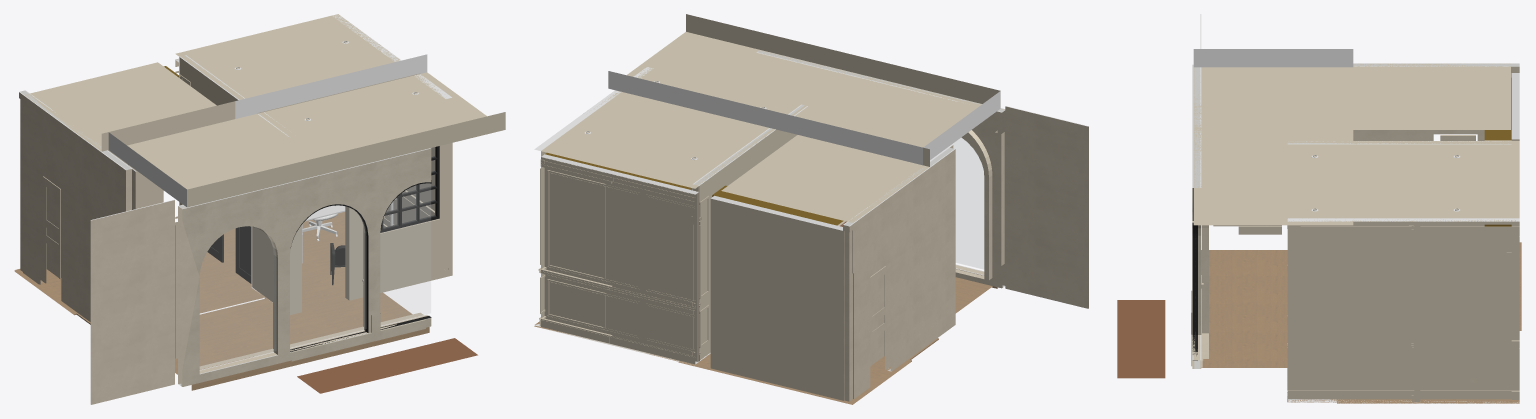
The model's file is office-east-b208e7d9e21c.glb.
The picture shows the model from 3 angles, left to right: view 1: azimuth 30°, elevation 25°; view 2: azimuth 150°, elevation 25°; view 3: azimuth 270°, elevation 25°; orthographic projection. The views are drawn at different scales.
Visible parts, largest first — view 1: office-east-look-dbd60ee5c3733ed6, office-east-look-c9e78b9ec1bb39cd, office-east-look-d5a4a1b5d3594c04, office-east-look-6a051330000fbca1, office-east-look-2575515a05775d9e, office-east-2575515a05775d9e, office-east-look-38561c12898e4d43, office-east-look-c02a36d0521470a9, office-east-look-c374268555806af8, office-east-7dc307bfa7ee071d, office-east-look-5cbcc744e6f960f3, office-east-dbd60ee5c3733ed6 (+15 smaller); view 2: office-east-look-dbd60ee5c3733ed6, office-east-look-19647d6da46c2b80, office-east-19647d6da46c2b80, office-east-look-6a051330000fbca1, office-east-look-d5a4a1b5d3594c04, office-east-2575515a05775d9e, office-east-look-2575515a05775d9e, office-east-72f8f5982ac3dc36, office-east-look-38561c12898e4d43, office-east-look-c9e78b9ec1bb39cd, office-east-dbd60ee5c3733ed6, office-east-look-1109284a531c9f8c (+16 smaller); view 3: office-east-6a1144f4e43410bb, office-east-look-dbd60ee5c3733ed6, office-east-2575515a05775d9e, office-east-look-2575515a05775d9e, office-east-look-c374268555806af8, office-east-dbd60ee5c3733ed6, office-east-look-aee2d046b0172b1e, office-east-2c29ddcb8551cb02, office-east-7dc307bfa7ee071d, office-east-look-c9e78b9ec1bb39cd, office-east-e54d813e60c9e7c4, office-east-look-6a051330000fbca1 (+13 smaller).
Part boxes in pixels (x1,y1,x2,y2): office-east-look-dbd60ee5c3733ed6: [108, 54, 505, 207]; office-east-look-c9e78b9ec1bb39cd: [178, 148, 431, 386]; office-east-look-d5a4a1b5d3594c04: [90, 199, 174, 404]; office-east-look-6a051330000fbca1: [19, 90, 136, 321]; office-east-look-2575515a05775d9e: [24, 62, 235, 151]; office-east-2575515a05775d9e: [175, 14, 420, 113]; office-east-look-38561c12898e4d43: [200, 226, 276, 369]; office-east-look-c02a36d0521470a9: [290, 205, 366, 347]; office-east-look-c374268555806af8: [175, 292, 429, 390]; office-east-7dc307bfa7ee071d: [293, 97, 445, 313]; office-east-look-5cbcc744e6f960f3: [380, 183, 430, 324]; office-east-dbd60ee5c3733ed6: [264, 74, 445, 137]; office-east-look-dbd60ee5c3733ed6: [608, 14, 1000, 165]; office-east-look-19647d6da46c2b80: [710, 195, 842, 400]; office-east-19647d6da46c2b80: [541, 154, 698, 364]; office-east-look-6a051330000fbca1: [843, 144, 955, 401]; office-east-look-d5a4a1b5d3594c04: [1005, 106, 1088, 308]; office-east-2575515a05775d9e: [541, 91, 774, 188]; office-east-look-2575515a05775d9e: [721, 135, 929, 222]; office-east-72f8f5982ac3dc36: [692, 104, 807, 361]; office-east-look-38561c12898e4d43: [930, 138, 983, 269]; office-east-look-c9e78b9ec1bb39cd: [756, 50, 1005, 288]; office-east-dbd60ee5c3733ed6: [615, 67, 793, 129]; office-east-look-1109284a531c9f8c: [955, 130, 992, 280]; office-east-6a1144f4e43410bb: [1287, 218, 1519, 402]; office-east-look-dbd60ee5c3733ed6: [1193, 49, 1353, 225]; office-east-2575515a05775d9e: [1353, 141, 1519, 221]; office-east-look-2575515a05775d9e: [1353, 63, 1510, 129]; office-east-look-c374268555806af8: [1201, 250, 1287, 367]; office-east-dbd60ee5c3733ed6: [1287, 141, 1353, 221]; office-east-look-aee2d046b0172b1e: [1117, 300, 1165, 378]; office-east-2c29ddcb8551cb02: [1287, 390, 1519, 399]; office-east-7dc307bfa7ee071d: [1287, 144, 1295, 390]; office-east-look-c9e78b9ec1bb39cd: [1192, 64, 1201, 368]; office-east-e54d813e60c9e7c4: [1300, 226, 1519, 234]; office-east-look-6a051330000fbca1: [1353, 63, 1519, 140].
Size of the model in its own units: 7.25 by 3.4 by 6.07.
22 materials, 4 textured.
